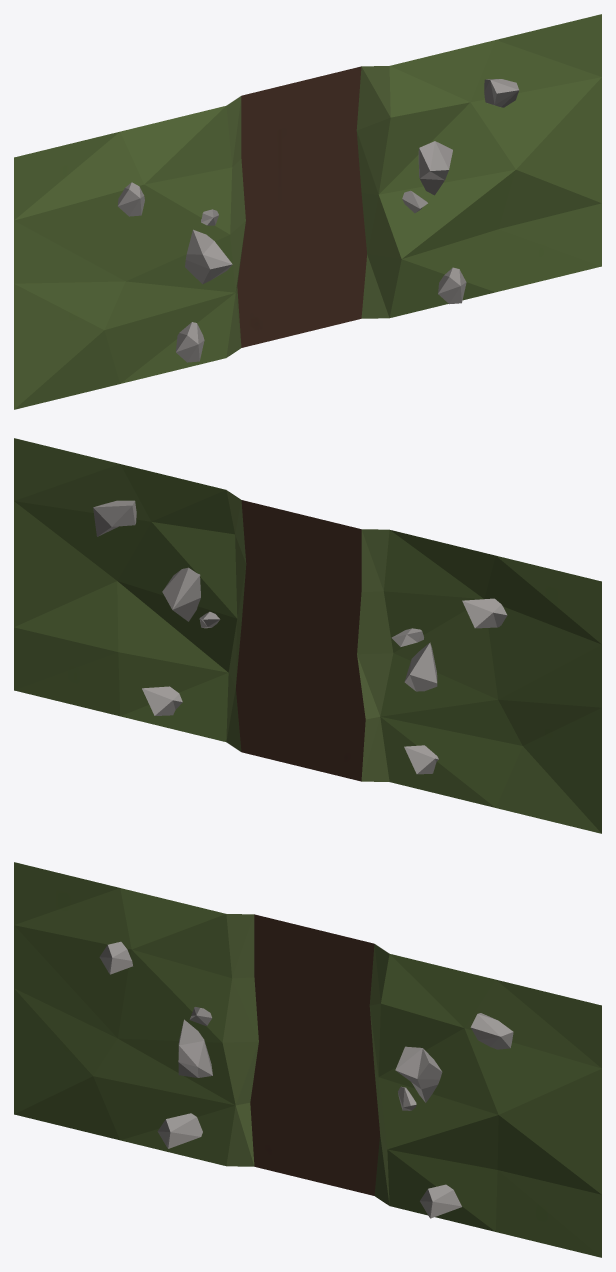
File: ROAD.fbx
3 renders of one model, top to bottom at view 1: azimuth 30°, elevation 25°; view 2: azimuth 150°, elevation 25°; view 3: azimuth 330°, elevation 25°, orthographic.
Visible parts, largest first — view 1: Cube; view 2: Cube; view 3: Cube.
Part boxes in pixels (left/top/right/bottom): Cube: left=14, top=14, right=601, bottom=409; Cube: left=14, top=438, right=601, bottom=833; Cube: left=14, top=862, right=601, bottom=1257.
Bounding box in the file's own units: 3232 × 1326 × 294.
1 material, 1 textured.
